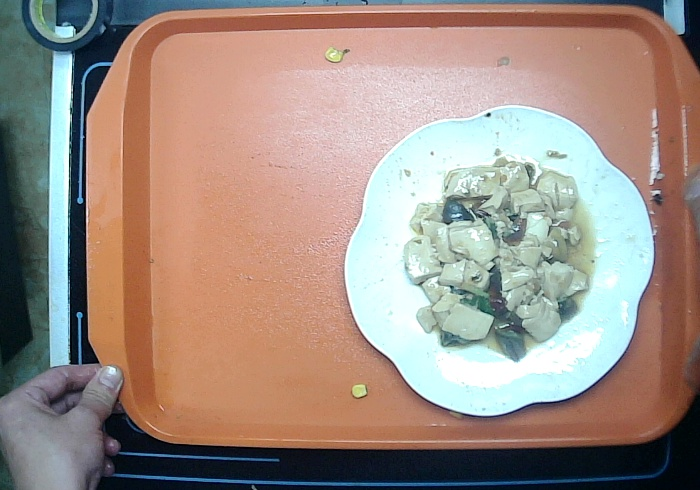HZYJPL-Bai_Se_Hua_Duo_Wan: (320, 95, 660, 435)
